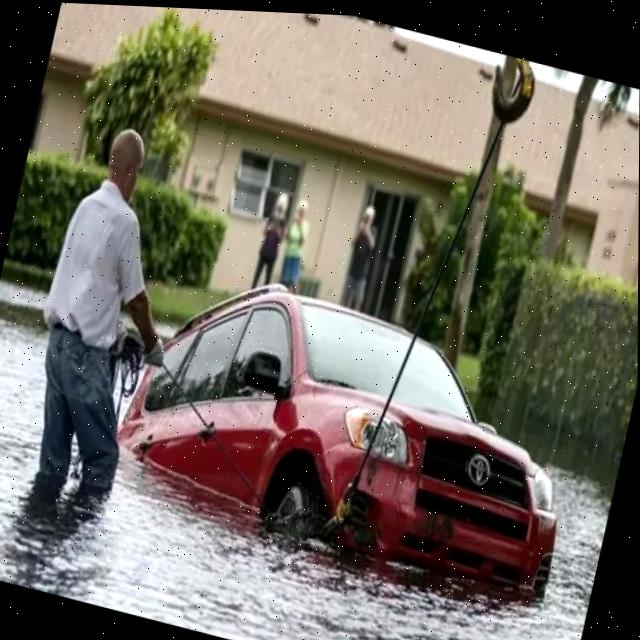civilian: (0, 99, 222, 567), (329, 194, 394, 321), (268, 189, 326, 305), (245, 181, 295, 297)
